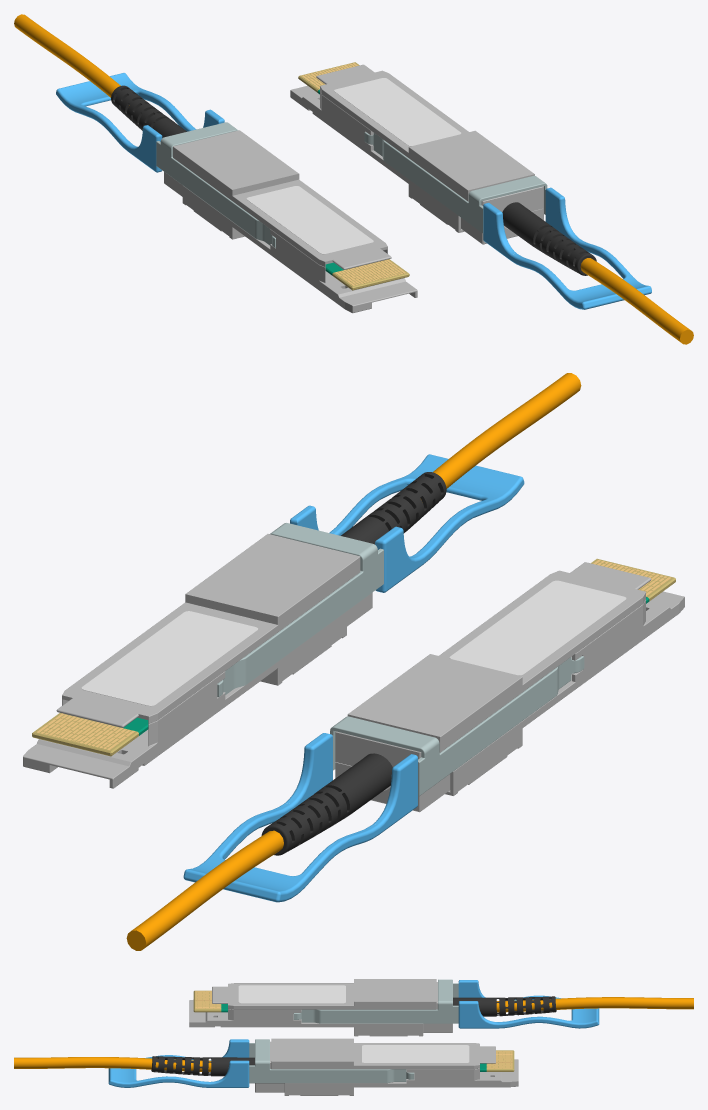
File: QSFPDD-400G-AOC.glb
3 views of the same model, one above another, from view 1: azimuth 30°, elevation 25°; view 2: azimuth 150°, elevation 25°; view 3: azimuth 270°, elevation 25° (orthographic). The views are drawn at different scales.
Visible parts, largest first — view 1: QSFPDD-400G-AOC_base, QSFPDD-400G-AOC_base (1), QSFPDD-400G-AOC_clip (1), QSFPDD-400G-AOC_label, QSFPDD-400G-AOC_label (1), QSFPDD-400G-AOC_clip, QSFPDD-400G-AOC_tin (1), QSFPDD-400G-AOC_tin, QSFPDD-400G-AOC_black (1), QSFPDD-400G-AOC_cable (1), QSFPDD-400G-AOC_cable, QSFPDD-400G-AOC_black (+2 smaller); view 2: QSFPDD-400G-AOC_base (1), QSFPDD-400G-AOC_base, QSFPDD-400G-AOC_clip, QSFPDD-400G-AOC_label (1), QSFPDD-400G-AOC_label, QSFPDD-400G-AOC_clip (1), QSFPDD-400G-AOC_tin, QSFPDD-400G-AOC_tin (1), QSFPDD-400G-AOC_black, QSFPDD-400G-AOC_cable, QSFPDD-400G-AOC_cable (1), QSFPDD-400G-AOC_black (1) (+2 smaller); view 3: QSFPDD-400G-AOC_base, QSFPDD-400G-AOC_base (1), QSFPDD-400G-AOC_tin, QSFPDD-400G-AOC_tin (1), QSFPDD-400G-AOC_clip, QSFPDD-400G-AOC_clip (1), QSFPDD-400G-AOC_label, QSFPDD-400G-AOC_label (1), QSFPDD-400G-AOC_cable, QSFPDD-400G-AOC_cable (1), QSFPDD-400G-AOC_black (1), QSFPDD-400G-AOC_black (+4 smaller).
Boxes of the visible parts, x1,y1,x2,y2 form: QSFPDD-400G-AOC_base: (164,130,417,313); QSFPDD-400G-AOC_base (1): (290,64,543,244); QSFPDD-400G-AOC_clip (1): (483,187,651,309); QSFPDD-400G-AOC_label: (246,186,373,254); QSFPDD-400G-AOC_label (1): (334,78,461,146); QSFPDD-400G-AOC_clip: (56,73,224,172); QSFPDD-400G-AOC_tin (1): (364,132,547,233); QSFPDD-400G-AOC_tin: (156,122,275,247); QSFPDD-400G-AOC_black (1): (502,202,596,275); QSFPDD-400G-AOC_cable (1): (580,258,693,344); QSFPDD-400G-AOC_cable: (14,14,129,105); QSFPDD-400G-AOC_black: (111,85,186,137); QSFPDD-400G-AOC_base (1): (23,534,372,788); QSFPDD-400G-AOC_base: (335,562,684,812); QSFPDD-400G-AOC_clip: (183,733,417,902); QSFPDD-400G-AOC_label (1): (81,611,258,706); QSFPDD-400G-AOC_label: (449,580,626,675); QSFPDD-400G-AOC_clip (1): (290,454,524,592); QSFPDD-400G-AOC_tin: (330,656,584,796); QSFPDD-400G-AOC_tin (1): (217,523,383,697); QSFPDD-400G-AOC_black: (261,753,392,855); QSFPDD-400G-AOC_cable: (126,830,283,950); QSFPDD-400G-AOC_cable (1): (433,373,581,488); QSFPDD-400G-AOC_black (1): (341,472,446,544); QSFPDD-400G-AOC_base: (189,979,452,1036); QSFPDD-400G-AOC_base (1): (255,1038,518,1095); QSFPDD-400G-AOC_tin: (293,979,458,1023); QSFPDD-400G-AOC_tin (1): (249,1039,414,1083); QSFPDD-400G-AOC_clip: (458,980,599,1028); QSFPDD-400G-AOC_clip (1): (108,1039,249,1087); QSFPDD-400G-AOC_label: (238,985,345,1003); QSFPDD-400G-AOC_label (1): (362,1045,469,1062); QSFPDD-400G-AOC_cable: (496,997,693,1012); QSFPDD-400G-AOC_cable (1): (14,1057,211,1071); QSFPDD-400G-AOC_black (1): (151,1056,254,1076); QSFPDD-400G-AOC_black: (453,996,556,1016).
Size of the model in its own units: 0.0694 by 0.0135 by 0.2405.
